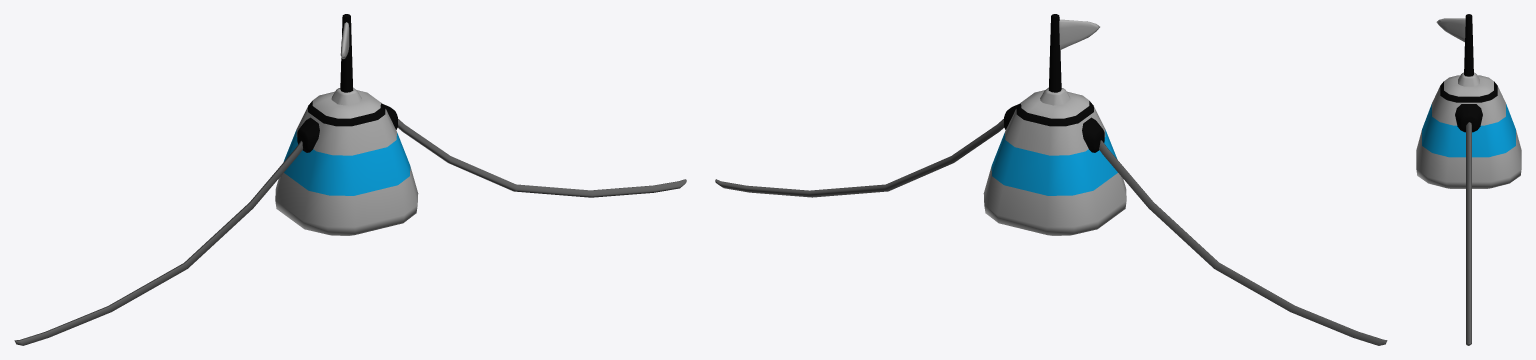
File: BoyaBandera.fbx
3 views of the same model, side by side, from view 1: azimuth 30°, elevation 25°; view 2: azimuth 150°, elevation 25°; view 3: azimuth 270°, elevation 25° (orthographic). The views are drawn at different scales.
Visible parts, largest first — view 1: BoyaBandera, Cuerda1, Cuerda2, PaloBandera, CuerdaBase1; view 2: BoyaBandera, Cuerda1, Cuerda2, PaloBandera, bandera, CuerdaBase1; view 3: BoyaBandera, Cuerda2, CuerdaBase2, PaloBandera, bandera, BasePaloBandera.
Boxes of the visible parts, x1,y1,x2,y2 form: BoyaBandera: (275,90,418,235); Cuerda1: (14,140,302,345); Cuerda2: (398,119,686,197); PaloBandera: (340,14,353,92); CuerdaBase1: (297,117,319,152); BoyaBandera: (983,90,1126,235); Cuerda1: (1099,140,1387,345); Cuerda2: (715,119,1003,197); PaloBandera: (1048,14,1061,92); bandera: (1059,19,1099,49); CuerdaBase1: (1082,117,1104,152); BoyaBandera: (1416,75,1521,188); Cuerda2: (1466,122,1471,345); CuerdaBase2: (1455,104,1482,132); PaloBandera: (1464,14,1473,76); bandera: (1436,18,1465,42); BasePaloBandera: (1458,72,1479,86).
Size of the model in its own units: 5.73 by 2.07 by 0.9758.
